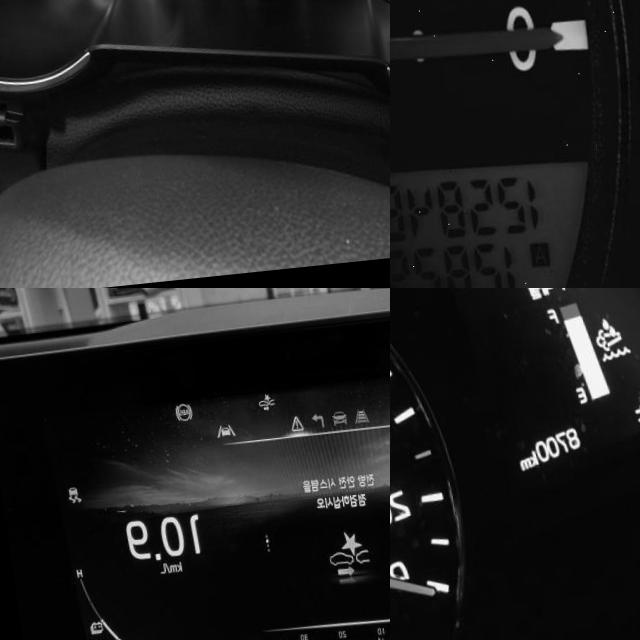Central Warning lamp: (282, 419, 297, 438)
LaneCenteringOff: (207, 428, 228, 443)
